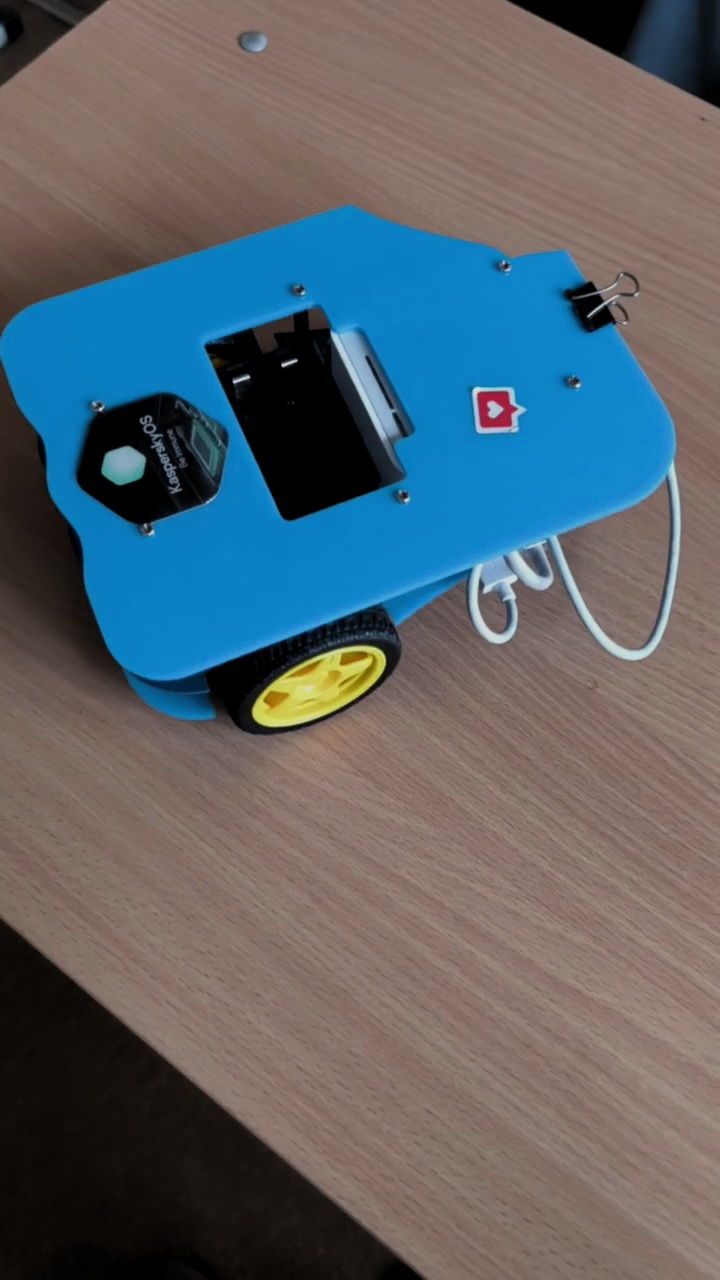robot: (1, 204, 683, 736)
